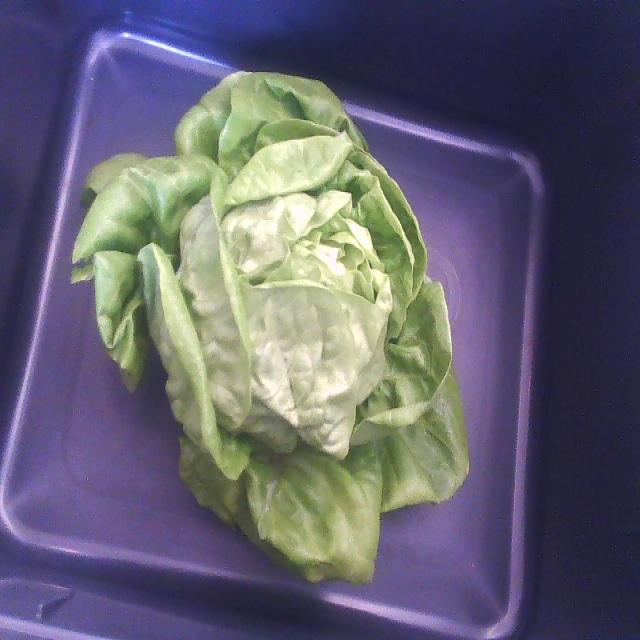Lettuce-plant: (72, 72, 469, 581)
